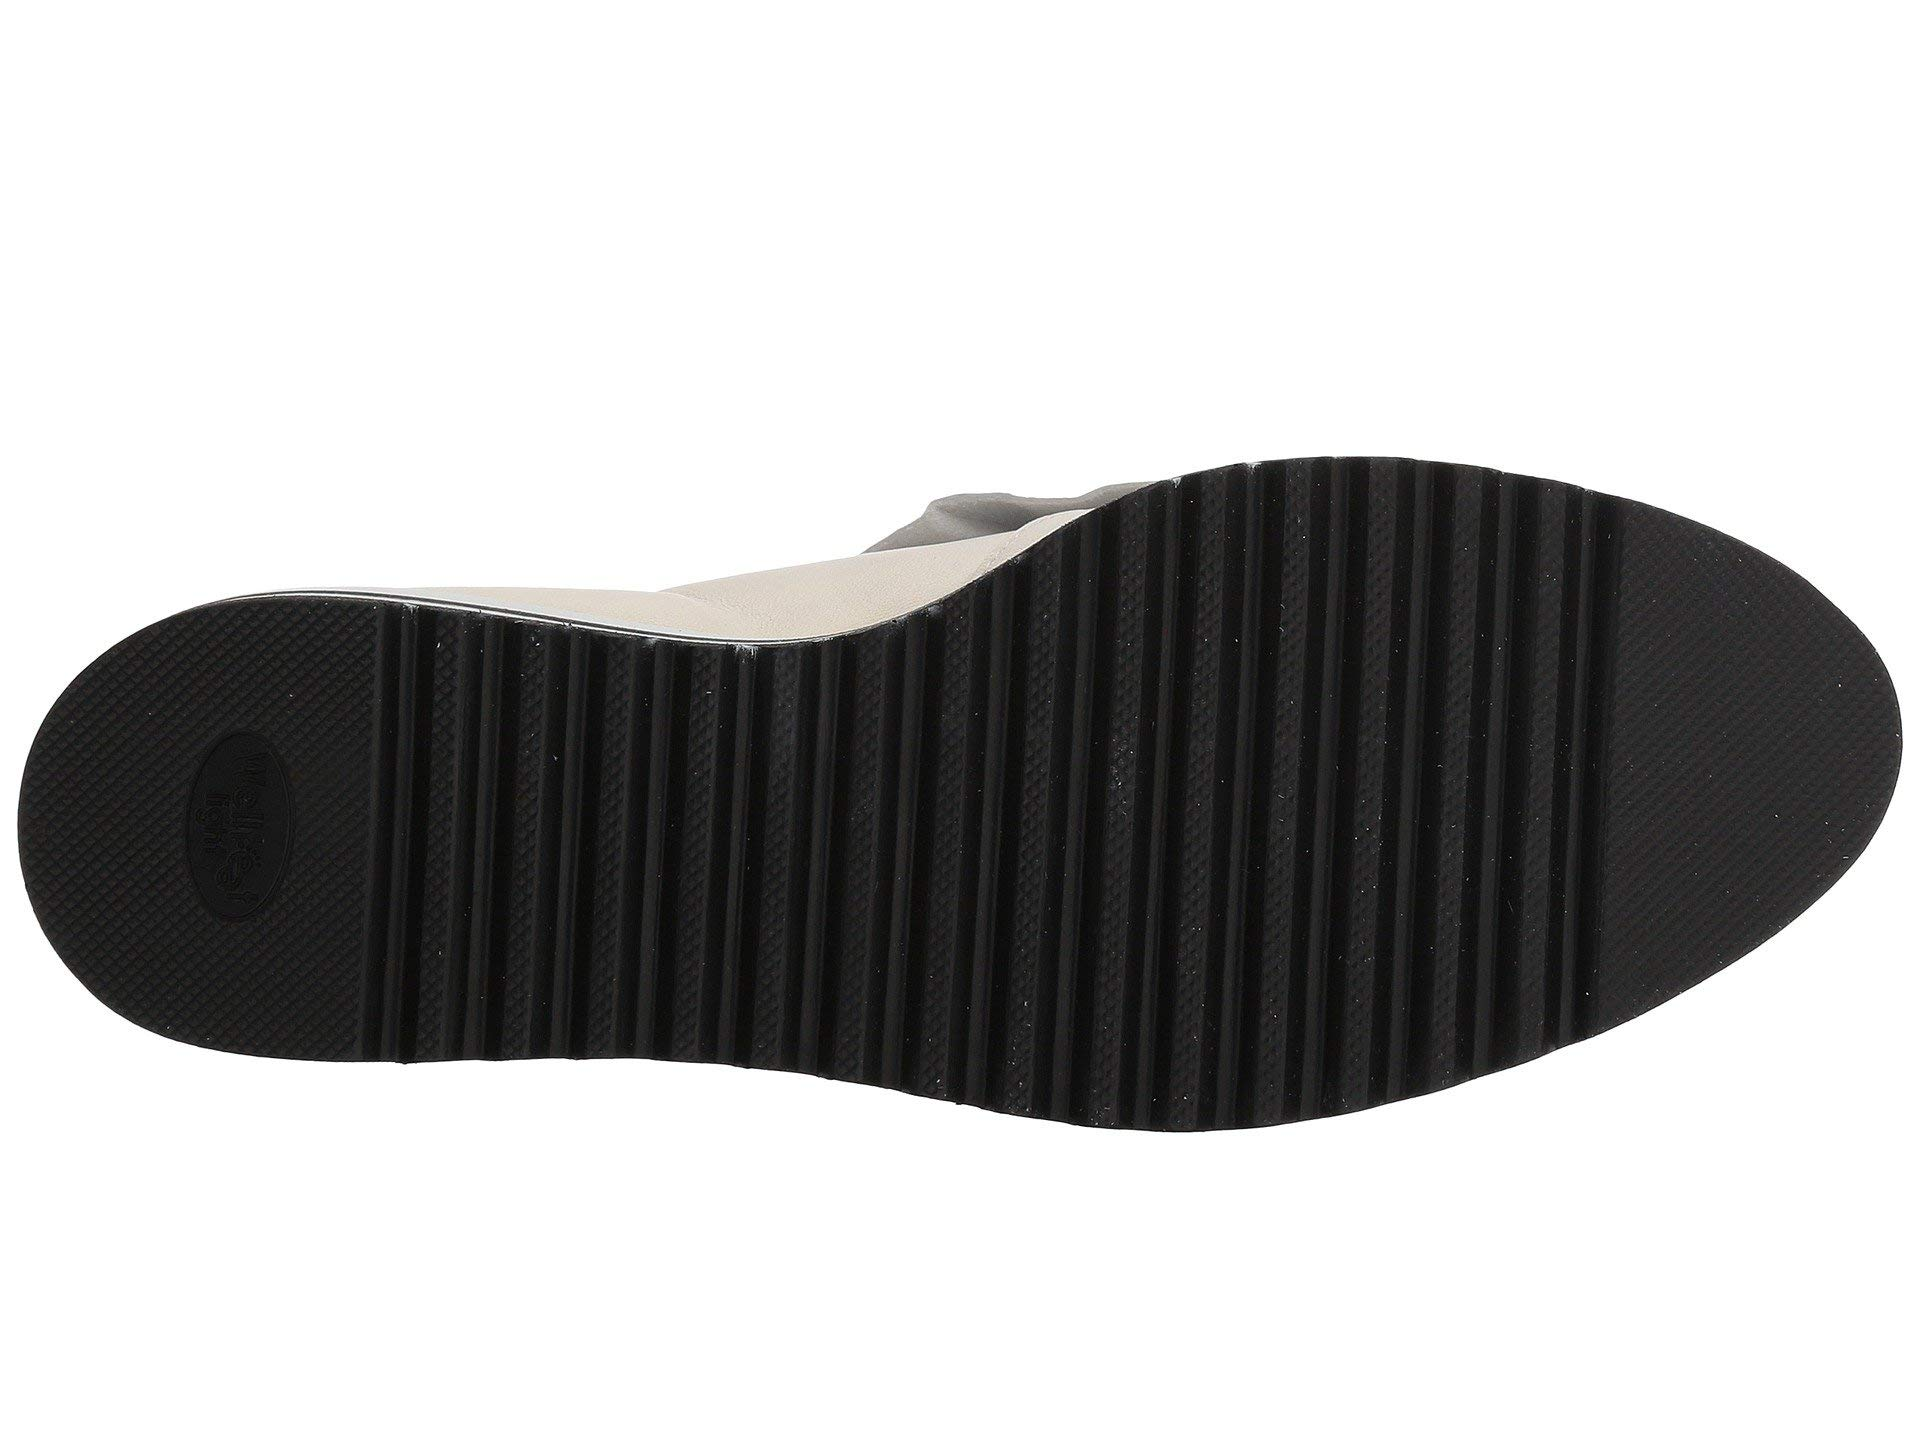line: (1095, 700, 1474, 1047)
